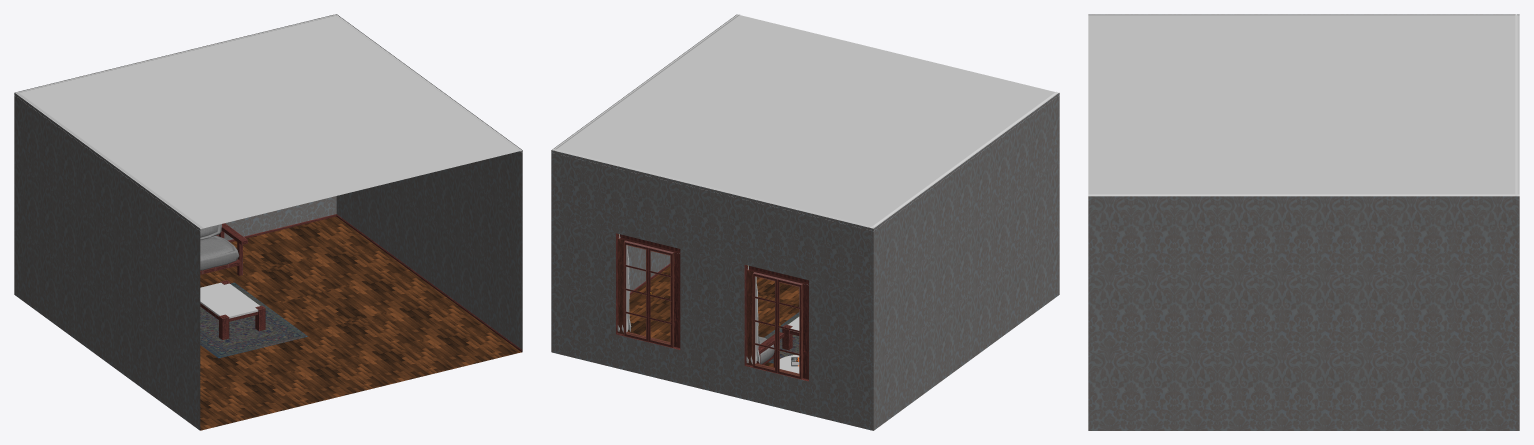
Rendered from room.dae.
3 views of the same model, side by side, from view 1: azimuth 30°, elevation 25°; view 2: azimuth 150°, elevation 25°; view 3: azimuth 270°, elevation 25° (orthographic). The views are drawn at different scales.
Parts seen in each view (by area): view 1: Plane.016, Plane.015, Plane.008, Plane.009, Plane.005, Plane.007, Plane.006, Plane.014, Plane.012, Plane.013, Plane.017, Plane.011 (+5 smaller); view 2: Plane.016, Plane.002, Plane, Plane.004, Plane.003, Plane.001, Plane.007, Plane.008, Plane.009, Plane.005, Plane.006, Plane.015 (+1 smaller); view 3: Plane.016, Plane.010, Plane.011, Plane.012, Plane.013, Plane.014.
Part boxes in pixels (box(x1,y1,x2,y2)): Plane.016: box(15, 14, 521, 228); Plane.015: box(200, 216, 522, 430); Plane.008: box(126, 173, 165, 403); Plane.009: box(163, 200, 203, 430); Plane.005: box(14, 91, 54, 321); Plane.007: box(51, 119, 91, 348); Plane.006: box(89, 146, 128, 375); Plane.014: box(483, 123, 522, 352); Plane.012: box(445, 96, 485, 324); Plane.013: box(408, 69, 447, 297); Plane.017: box(200, 282, 308, 358); Plane.011: box(371, 41, 410, 270); Plane.016: box(552, 14, 1058, 228); Plane.002: box(680, 180, 746, 399); Plane: box(809, 211, 875, 430); Plane.004: box(551, 148, 617, 367); Plane.003: box(616, 164, 681, 383); Plane.001: box(744, 196, 810, 414); Plane.007: box(908, 173, 947, 403); Plane.008: box(982, 119, 1022, 348); Plane.009: box(1019, 91, 1059, 321); Plane.005: box(870, 200, 910, 430); Plane.006: box(945, 146, 984, 375); Plane.015: box(627, 266, 799, 367); Plane.016: box(1088, 14, 1519, 194); Plane.010: box(1433, 194, 1519, 430); Plane.011: box(1347, 194, 1433, 430); Plane.012: box(1174, 194, 1260, 430); Plane.013: box(1260, 194, 1346, 430); Plane.014: box(1088, 194, 1174, 430).
Bounding box in the file's own units: 5 × 5 × 3.02.
Materials: 11 (6 with a texture image).
